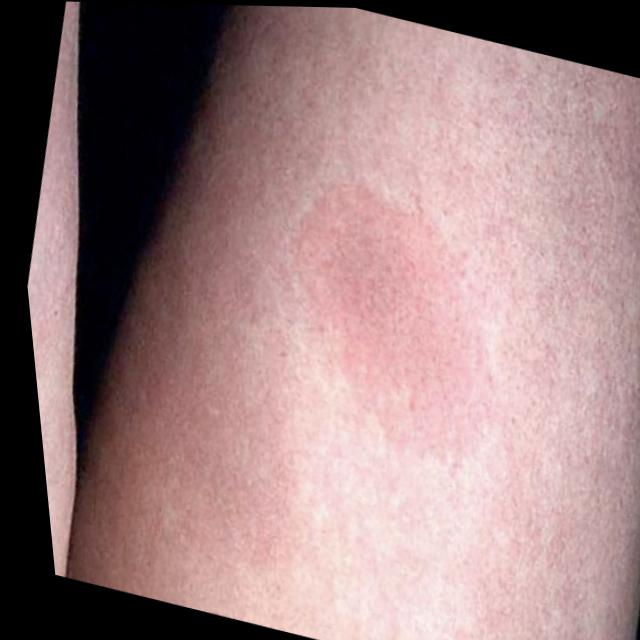Erythema migrans: (235, 109, 543, 474)
